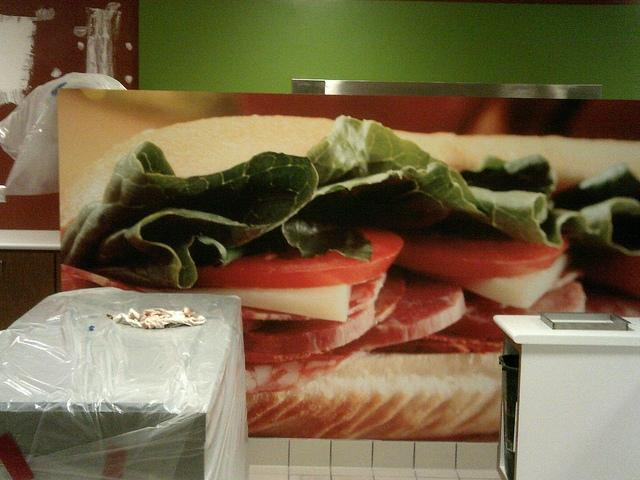tomato: (192, 227, 404, 288), (392, 229, 562, 280), (572, 256, 640, 300)
